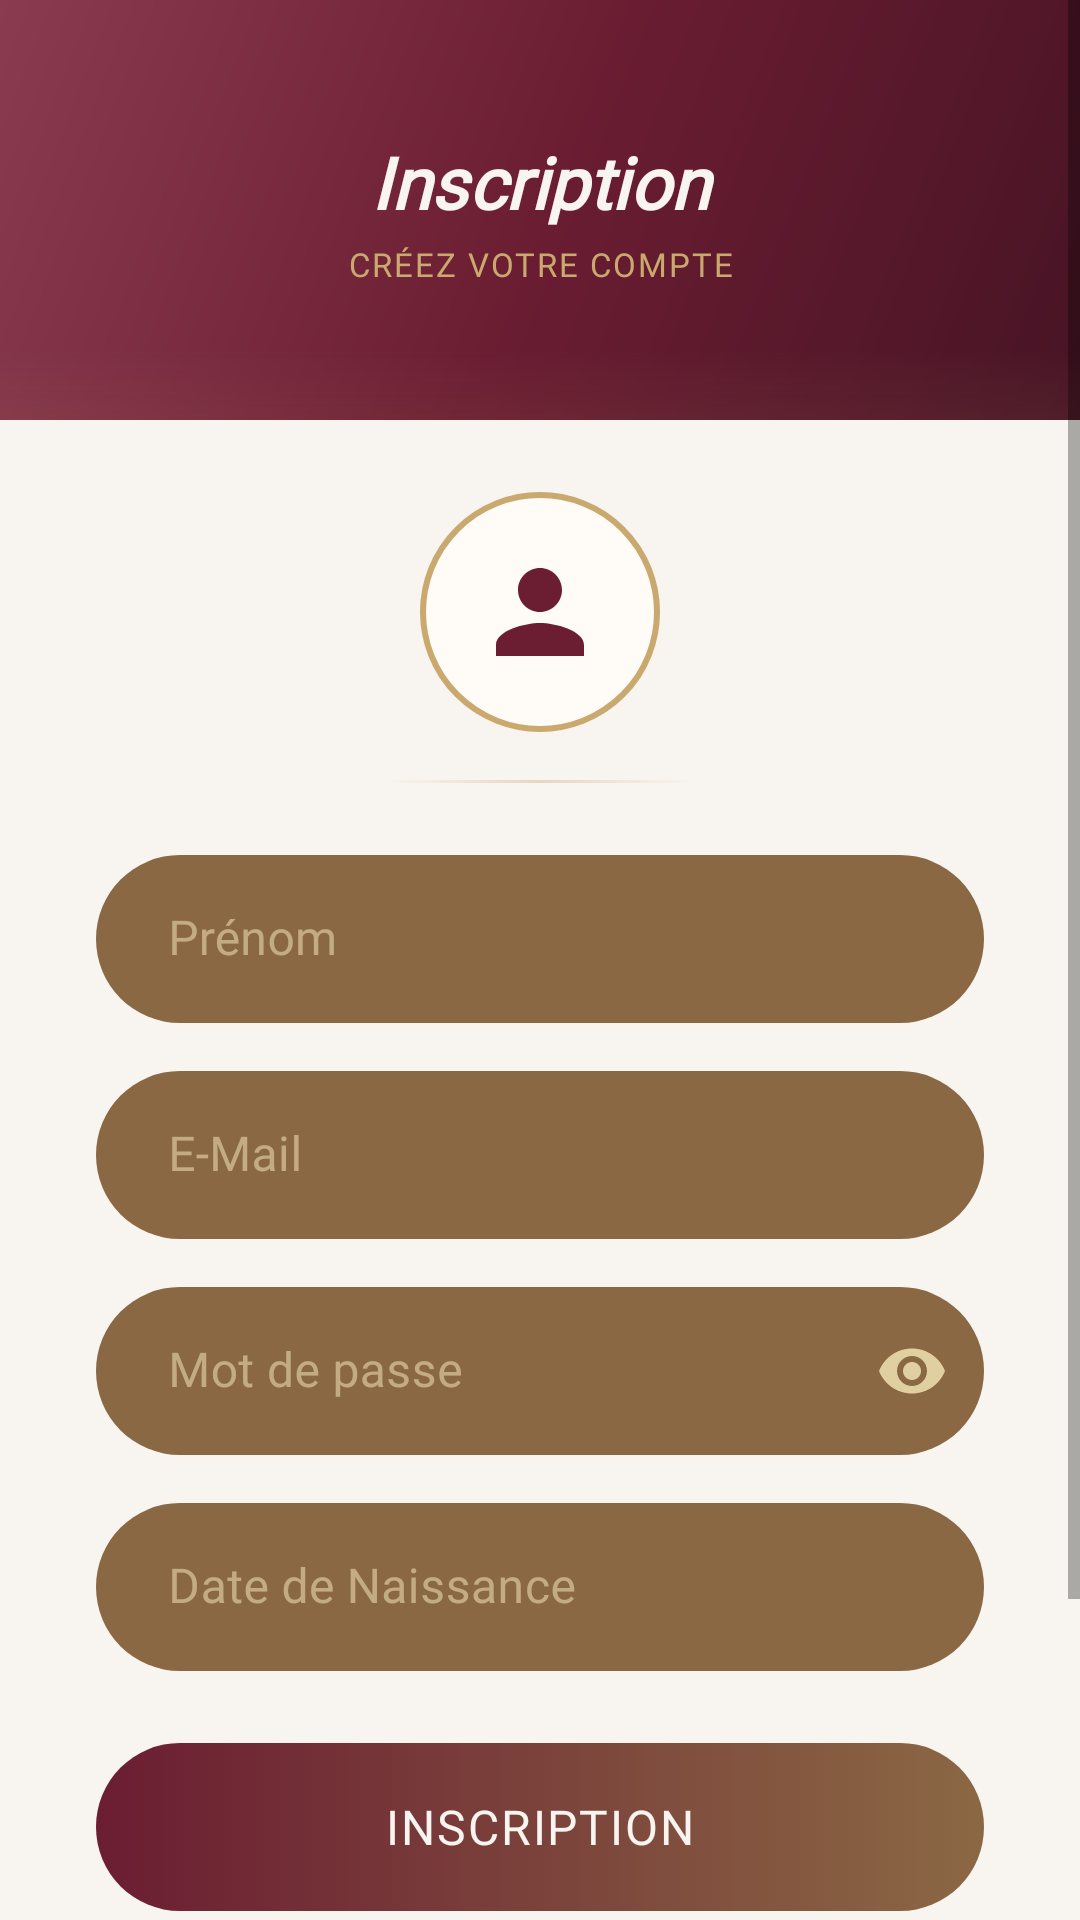

Locate icon controls on the screen. Image size 1080x1920, boxes as BBox(x1, y1, x2, y2).
person: BBox(496, 568, 584, 656)
